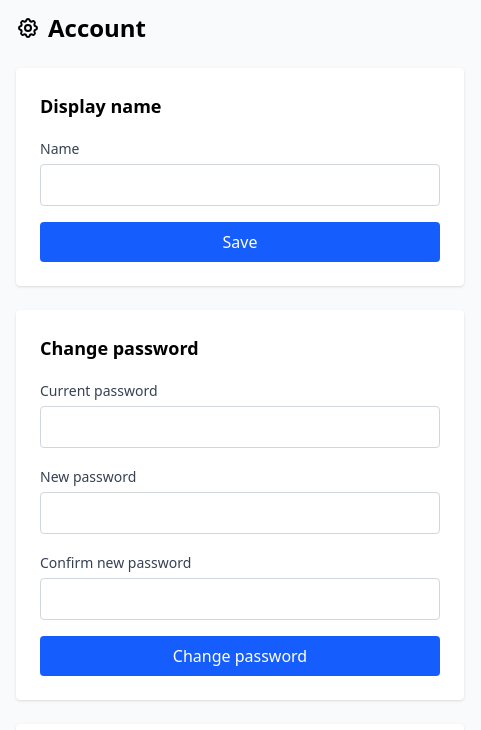
Test: Account › shows an inline error when the new password and confirmation don't match
Type "current" into the password field labelled "Current password" at (240, 427), box x1=40 y1=406 x2=440 y2=448
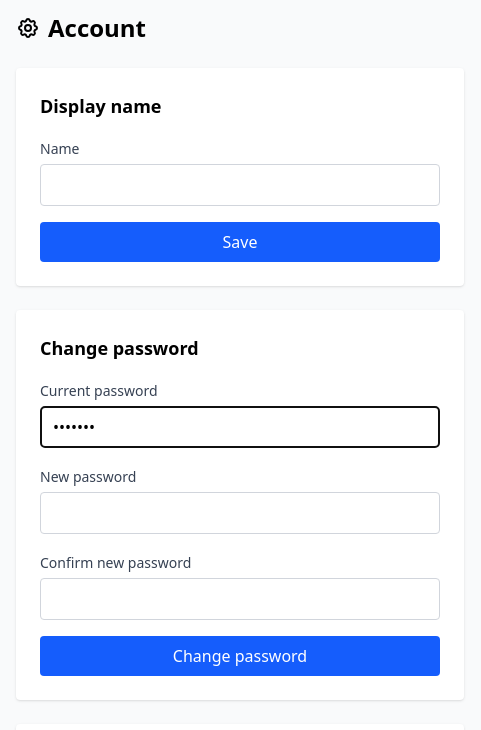
Type "new-password-123" into the password field labelled "New password" at (240, 513), box x1=40 y1=492 x2=440 y2=534
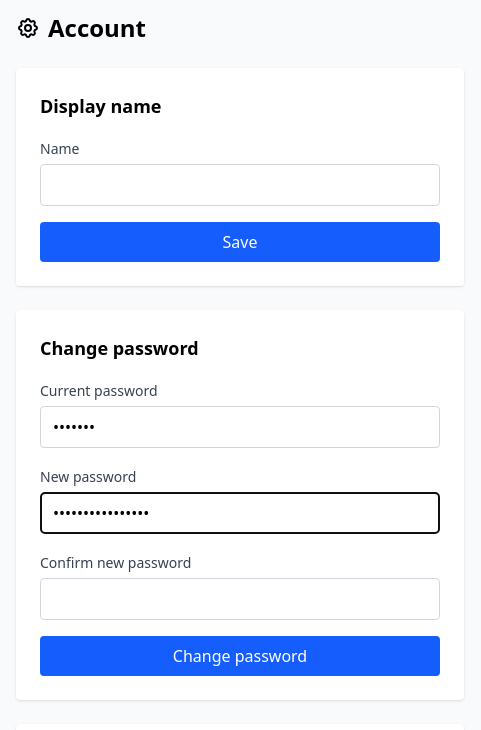
Type "different-password" into the password field labelled "Confirm new password" at (240, 599), box x1=40 y1=578 x2=440 y2=620
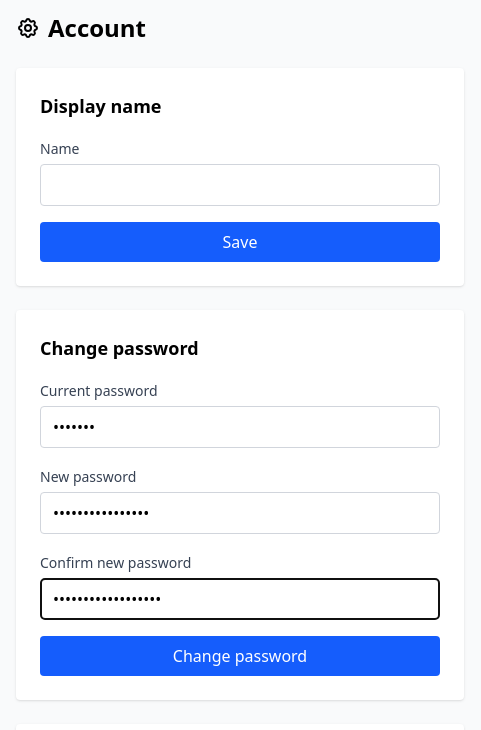
Click the button "Change password" at (240, 656), box x1=40 y1=636 x2=440 y2=676
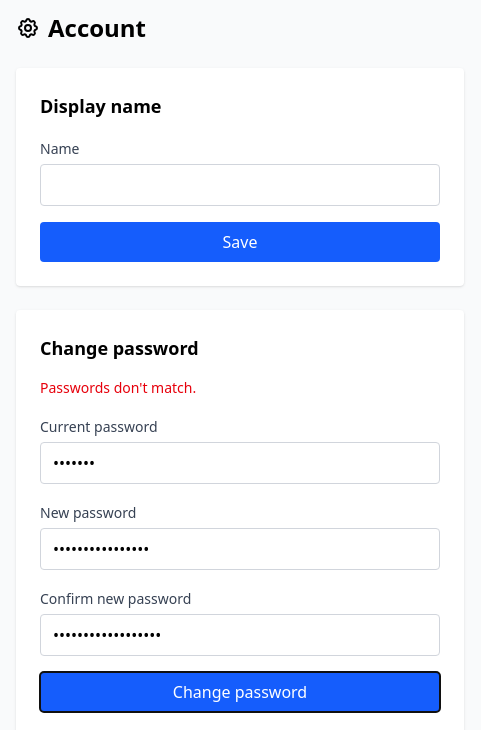
Result: the text "Passwords don't match." is shown at x1=40 y1=378 x2=196 y2=397
